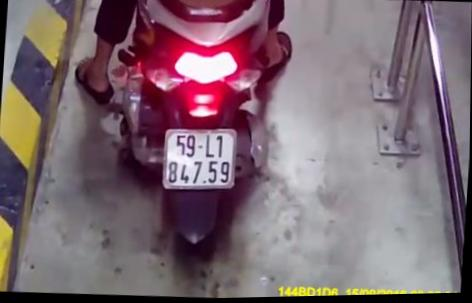LP: (160, 125, 240, 193)
